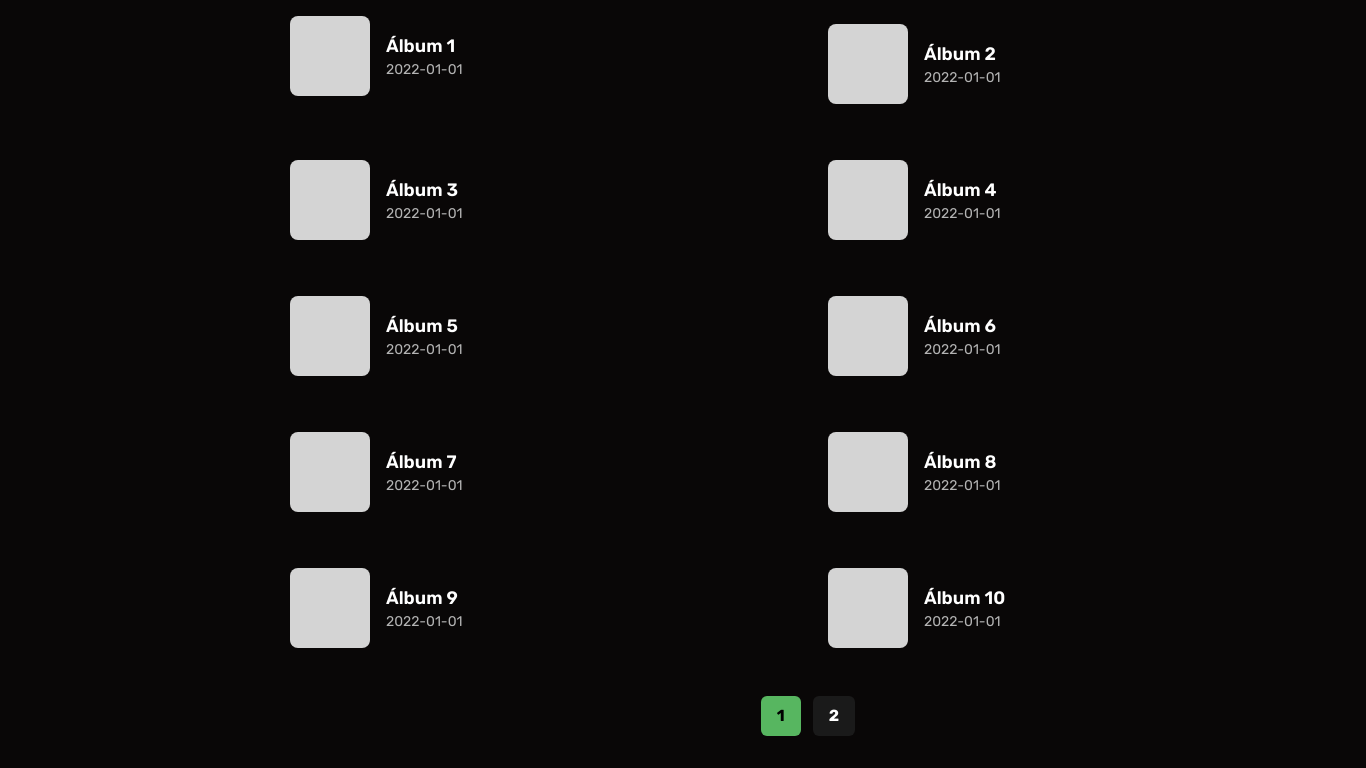
Test case: Albums Page › deve paginar corretamente
The width and height of the screenshot is (1366, 768).
(page scrolled)
Expected: the heading "Álbum 1" is shown, [386, 32, 462, 60]
Expected: the text "Álbum 11" is not shown
Click the button "2" at (834, 716), box [813, 696, 855, 736]
(page scrolled)
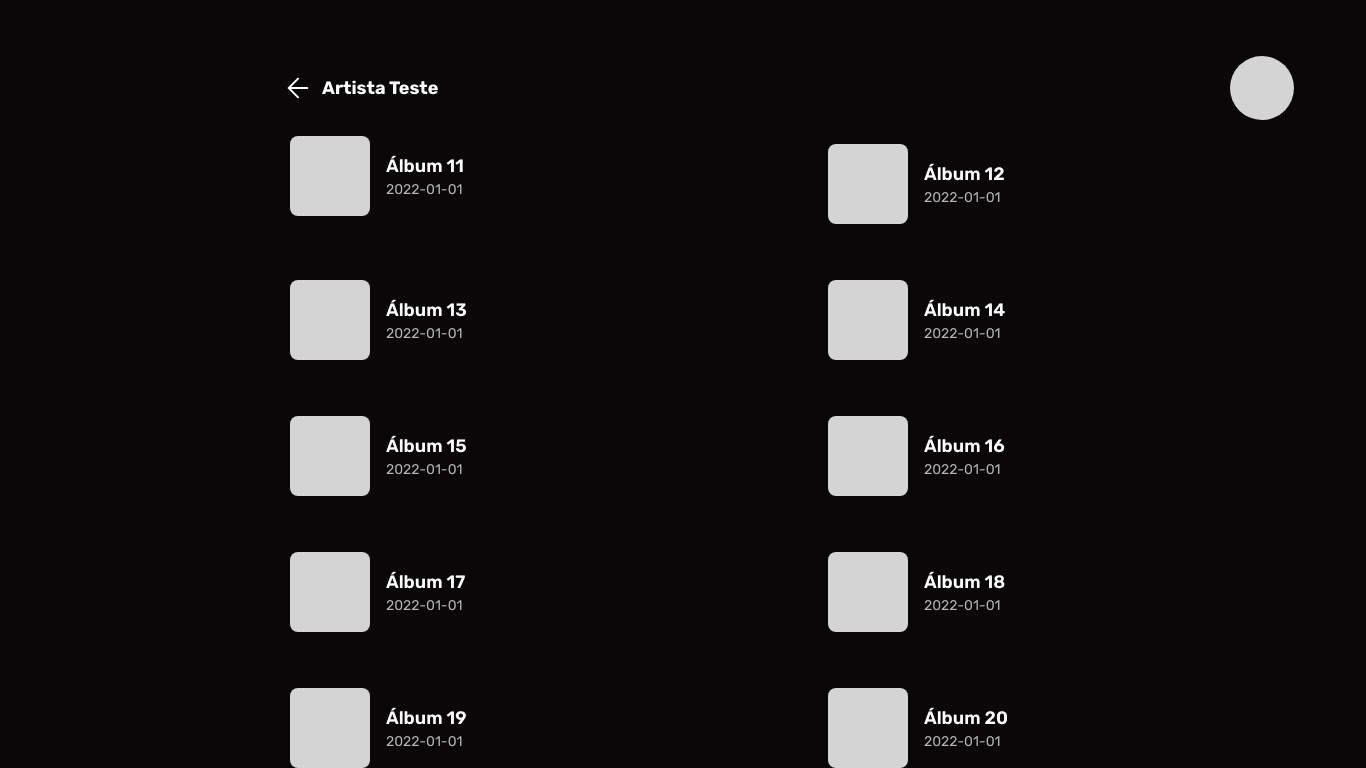
Expected: the heading "Álbum 11" is shown, [386, 152, 464, 180]
